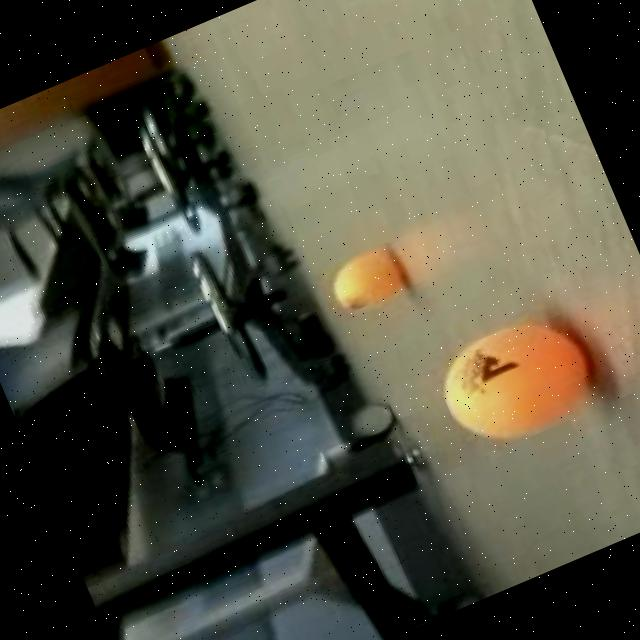ping-pong-ball: (420, 292, 608, 460), (318, 237, 417, 323)
